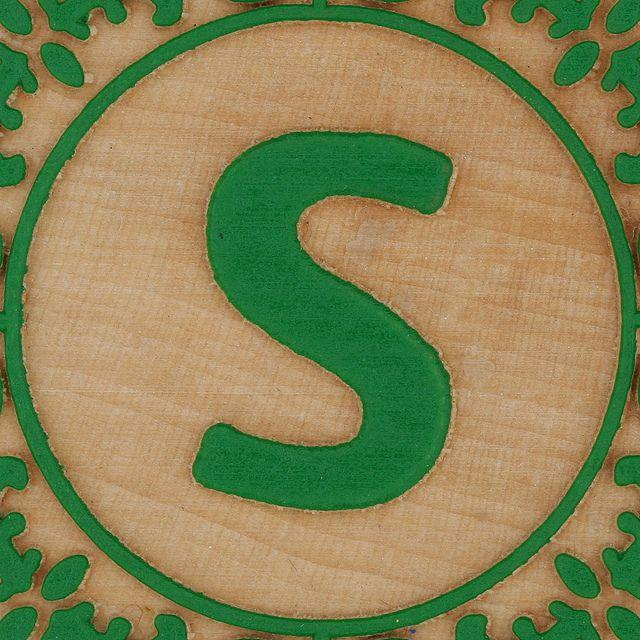S: (167, 89, 473, 542)
